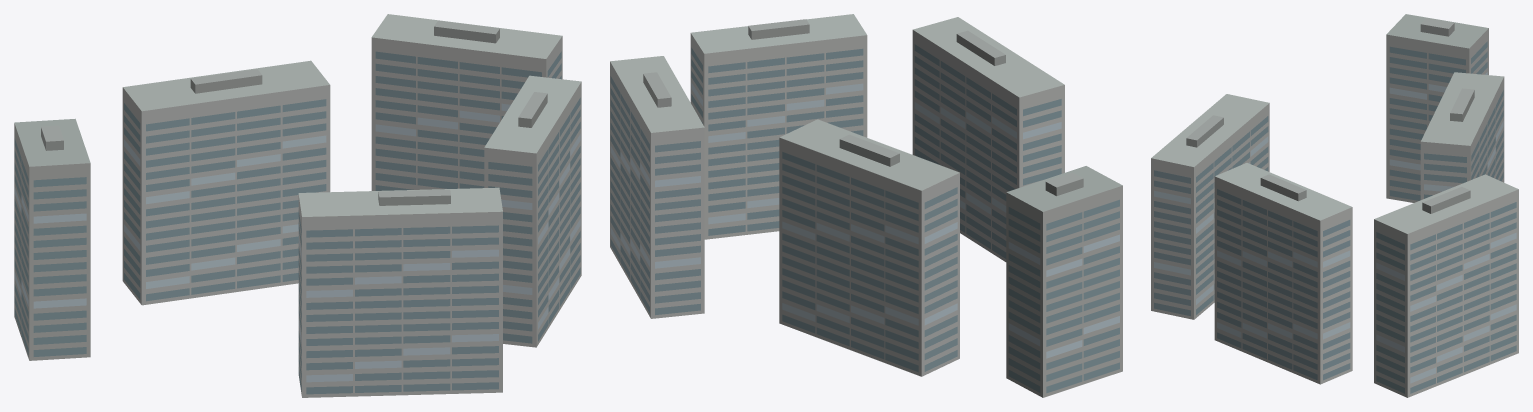
Rendered from apt-a15722306.glb.
The picture shows the model from 3 angles, left to right: view 1: azimuth 30°, elevation 25°; view 2: azimuth 150°, elevation 25°; view 3: azimuth 270°, elevation 25°; orthographic projection. The views are drawn at different scales.
Parts seen in each view (by area): view 1: apt-a15722306; view 2: apt-a15722306; view 3: apt-a15722306.
Part boxes in pixels (box(x1,y1,x2,y2)): apt-a15722306: box(14, 14, 581, 397); apt-a15722306: box(610, 14, 1122, 397); apt-a15722306: box(1151, 14, 1518, 397).
Bounding box in the file's own units: 121 × 44 × 85.49.
